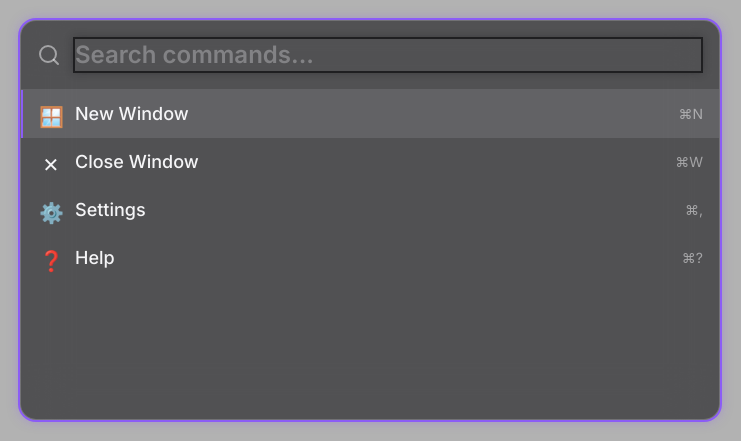
Scenario: GodMode - Gold Standard Tests › filters commands based on search query
In the field with test id "god-mode-search": (388, 55) [73, 37, 703, 73], type "window"
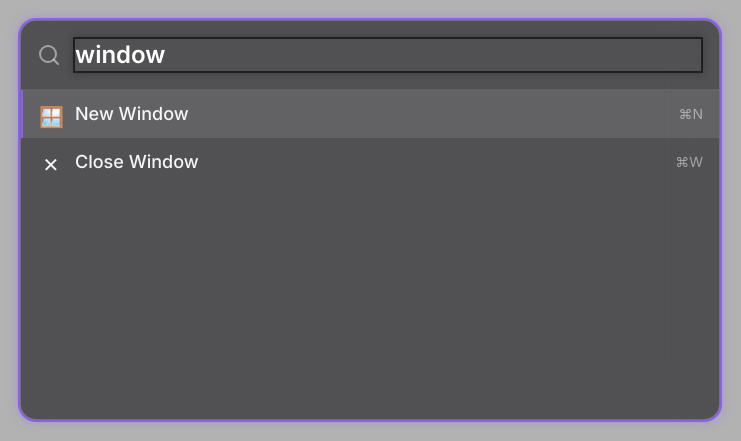
Expected: the element with test id "god-mode-result-new-window" is shown, [21, 90, 719, 138]
Now the element with test id "god-mode-result-settings" is gone
Now the element with test id "god-mode-result-help" is gone
